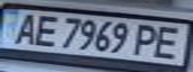6: (93, 19, 115, 53)
7: (54, 15, 81, 51)
9: (109, 20, 136, 55), (75, 17, 100, 52)
A: (6, 11, 42, 46)
E: (148, 24, 190, 60), (27, 11, 63, 47)
P: (130, 21, 166, 56)
